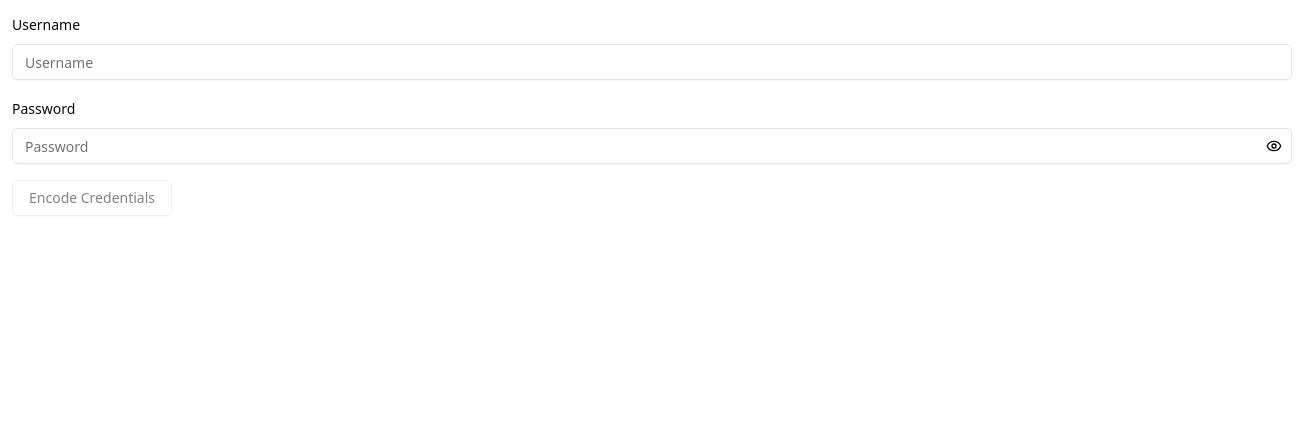
Test: BasicAuth › should clear credentials when clear buttons are clicked
Type "admin" into the field with placeholder "Username" at (652, 62), box [12,44,1292,80]
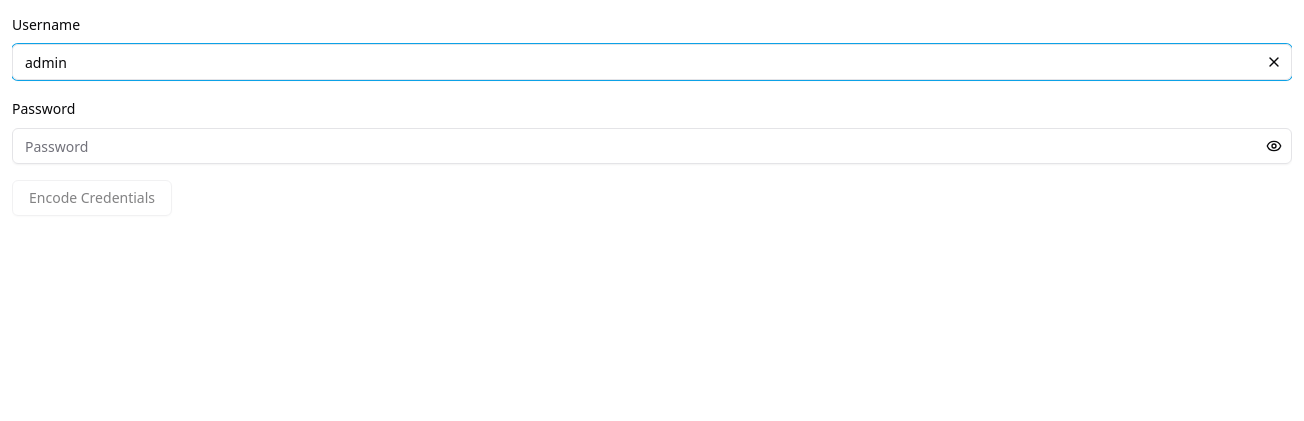
Type "secret" into the password field with placeholder "Password" at (652, 146), box [12,128,1292,164]
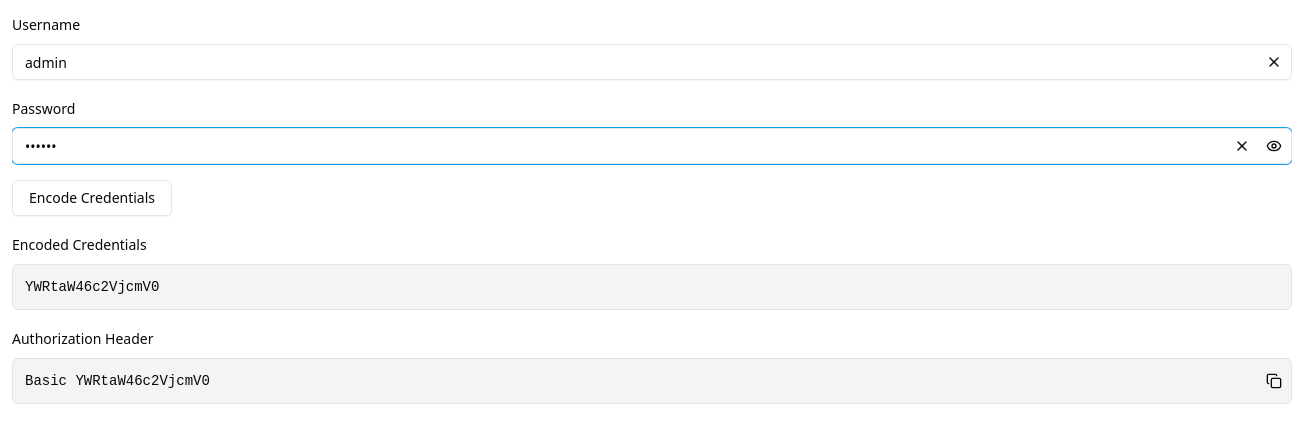
Click the button named "clear" at (1274, 62), box [1260,48,1288,76]
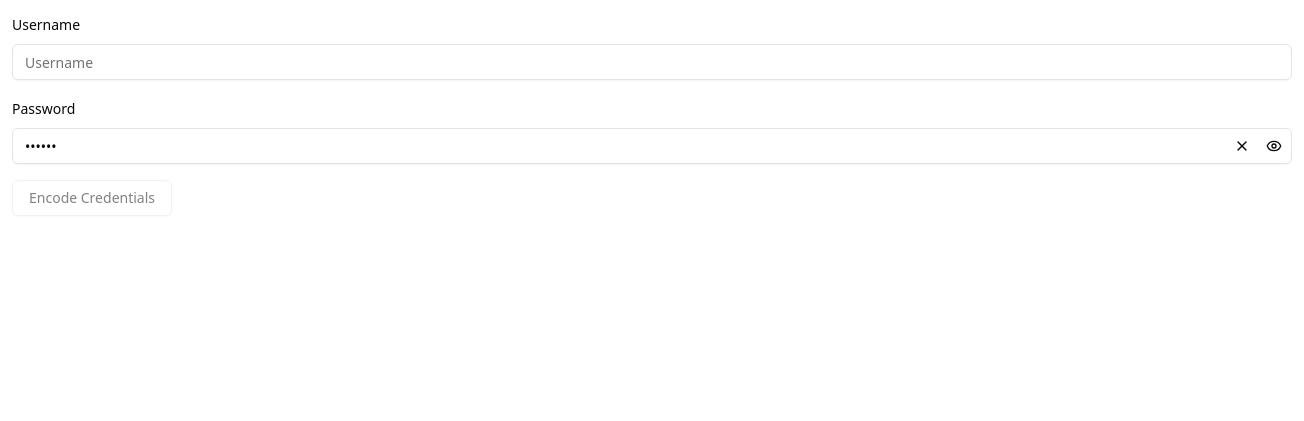
expect the field with placeholder "Username" is empty: met, box [12,44,1292,80]
